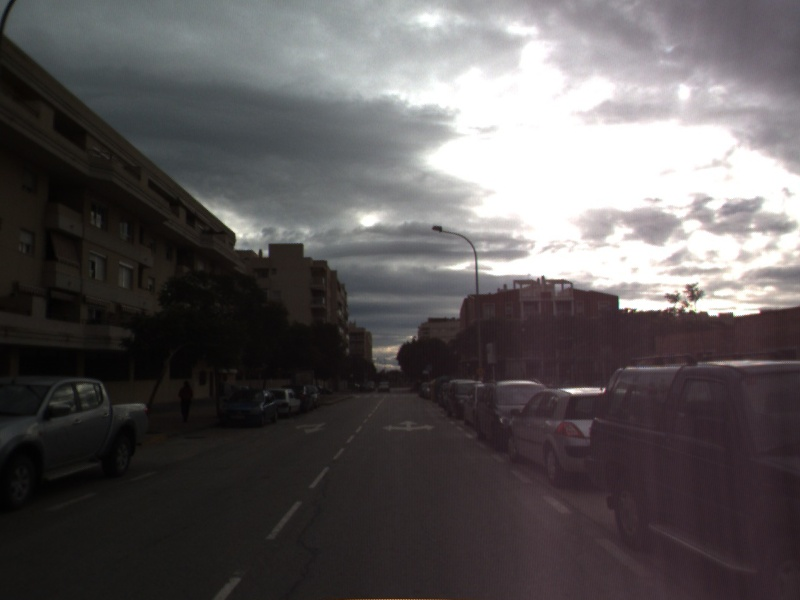STRAIGHT_LEFT_RIGHT: (380, 418, 437, 434)
